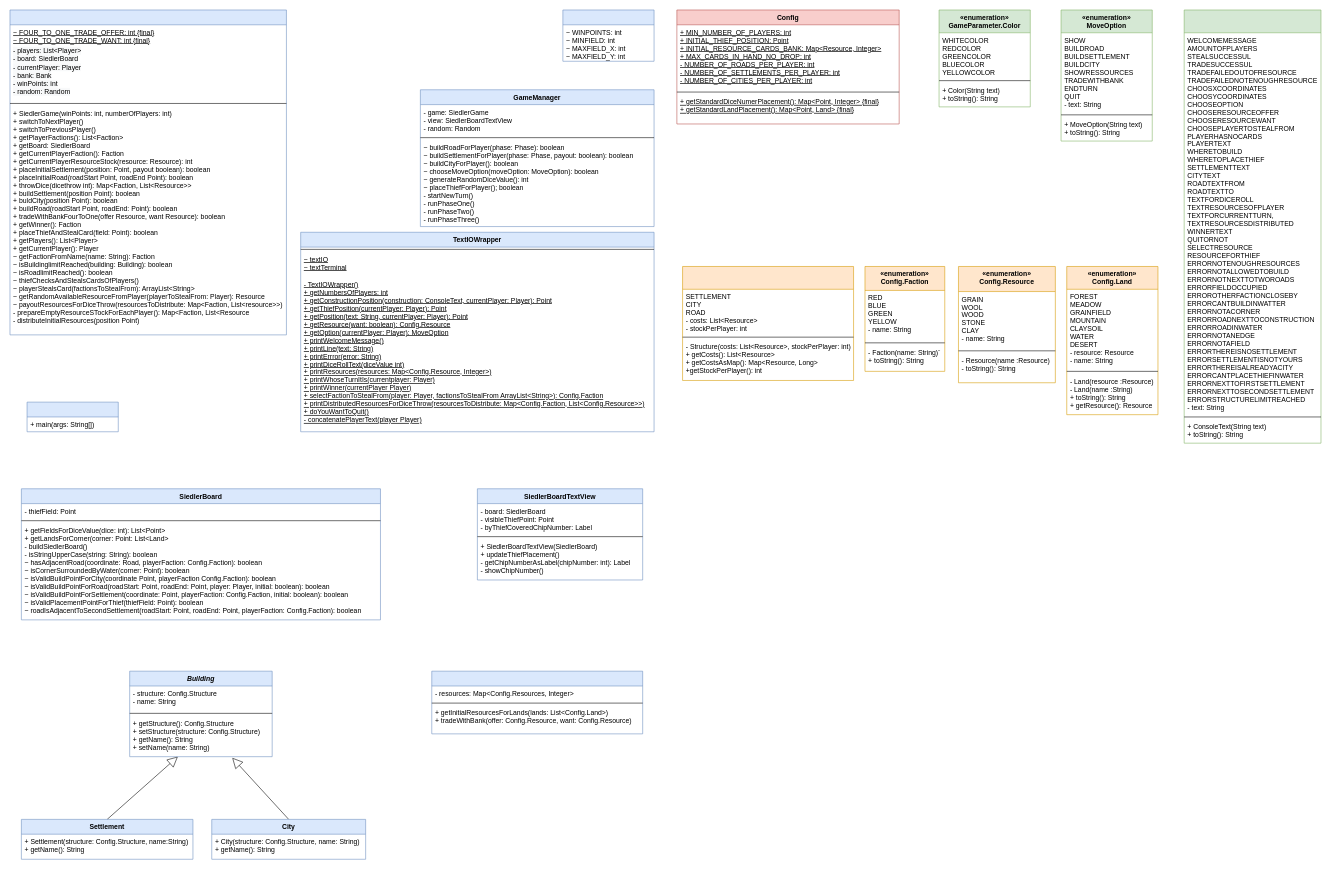
Some shapes in this 1331 by 871 pixel diagram are drawn without their labels. Here are the shapes that lost their labels. From the top down, the box of each, then its label:
(562, 9, 654, 61): GameParameter
(9, 9, 286, 335): SiedlerGame
(1184, 9, 1321, 443): «enumeration» ConsoleText
(682, 266, 854, 380): «enumeration» Config.Structure
(27, 402, 118, 432): Main
(431, 671, 643, 734): Bank
